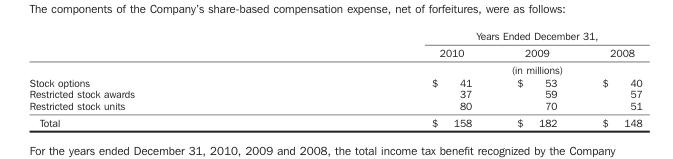table: (28, 29, 641, 128)
table column: (28, 29, 282, 128), (282, 29, 490, 128), (490, 29, 581, 128), (581, 29, 641, 128)
table column header: (28, 29, 641, 75)
table row: (28, 43, 641, 75), (28, 113, 641, 128), (28, 29, 641, 43), (28, 99, 641, 113), (28, 75, 641, 87), (28, 87, 641, 99)
table spanning cell: (282, 29, 641, 43)
